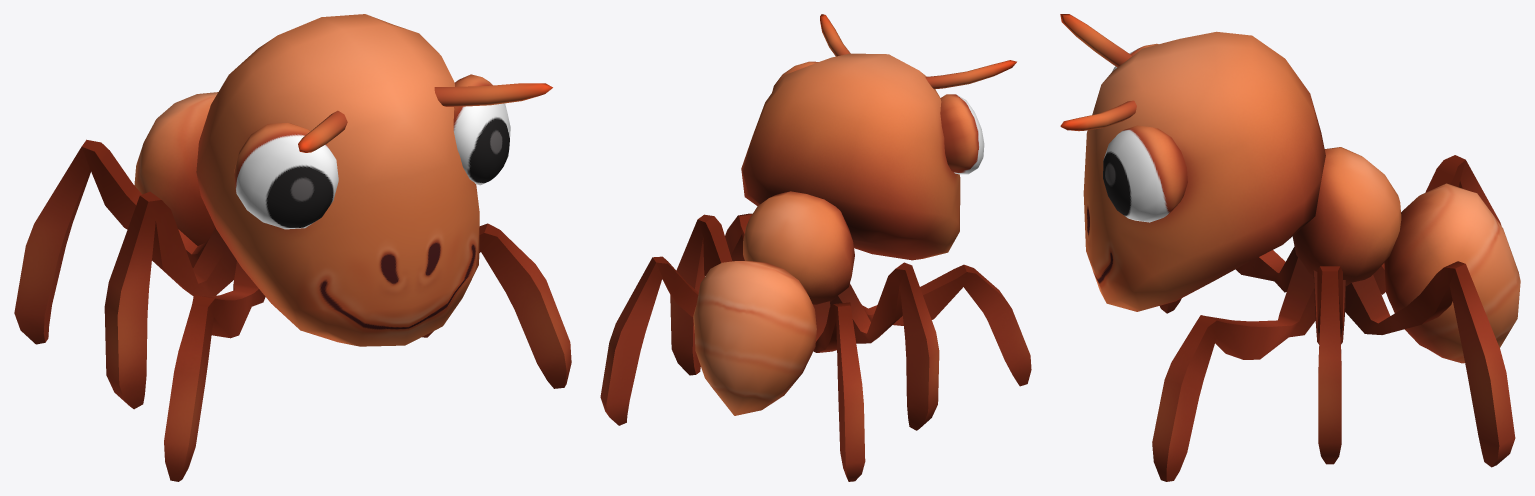
Rendered from ENV2010003.fbx.
The picture shows the model from 3 angles, left to right: view 1: azimuth 30°, elevation 25°; view 2: azimuth 150°, elevation 25°; view 3: azimuth 270°, elevation 25°; orthographic projection. The views are drawn at different scales.
Visible parts, largest first — view 1: smENV2010003; view 2: smENV2010003; view 3: smENV2010003.
Boxes of the visible parts, bbox=[...] form: smENV2010003: bbox=[14, 14, 571, 481]; smENV2010003: bbox=[600, 14, 1031, 481]; smENV2010003: bbox=[1060, 14, 1520, 481].
Size of the model in its own units: 10.46 by 9.57 by 11.29.
1 material, 1 textured.
